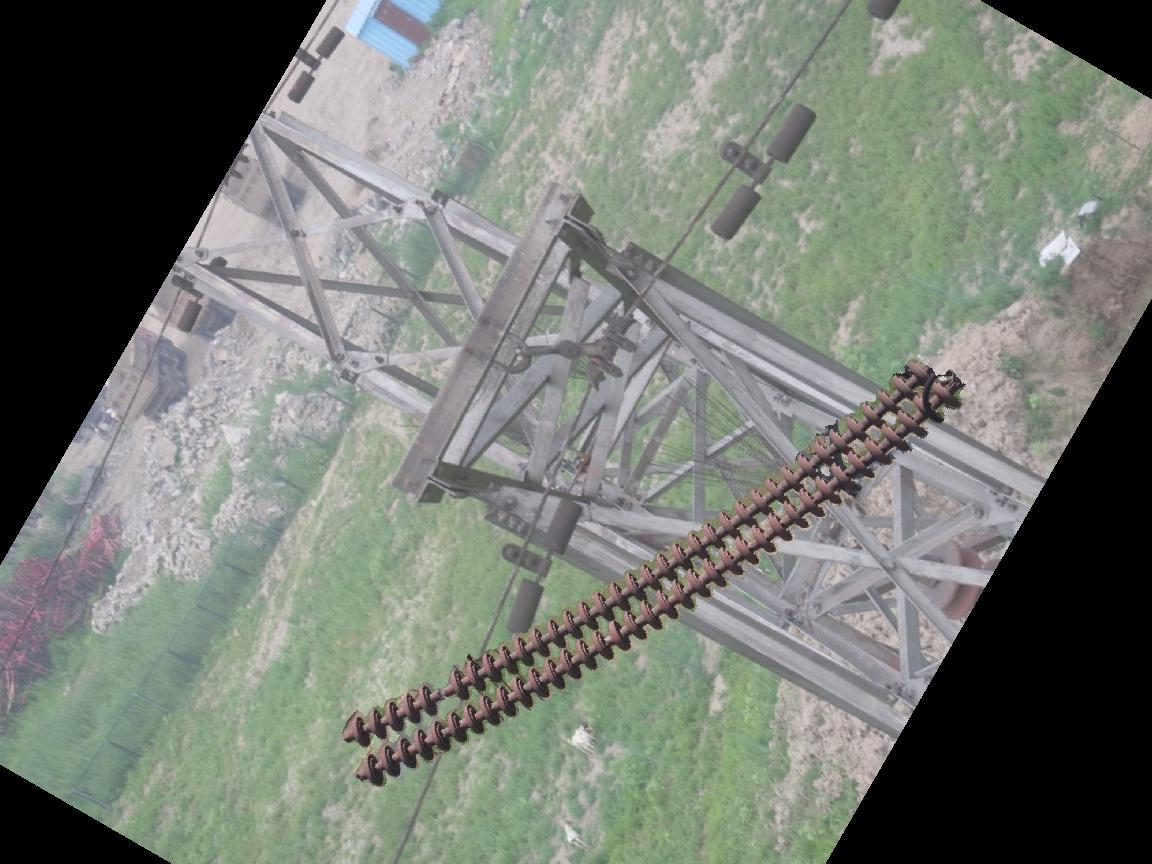insulator: (343, 351, 962, 792), (900, 525, 989, 617)
insulator_stringdrop: (414, 665, 473, 720)
